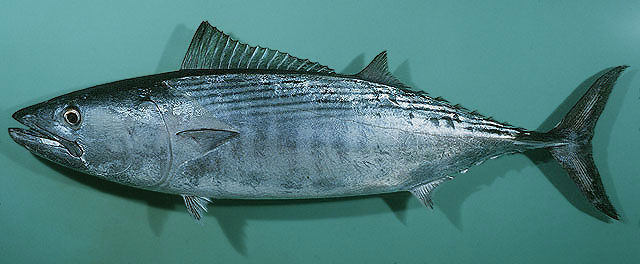fish: (9, 19, 631, 224)
